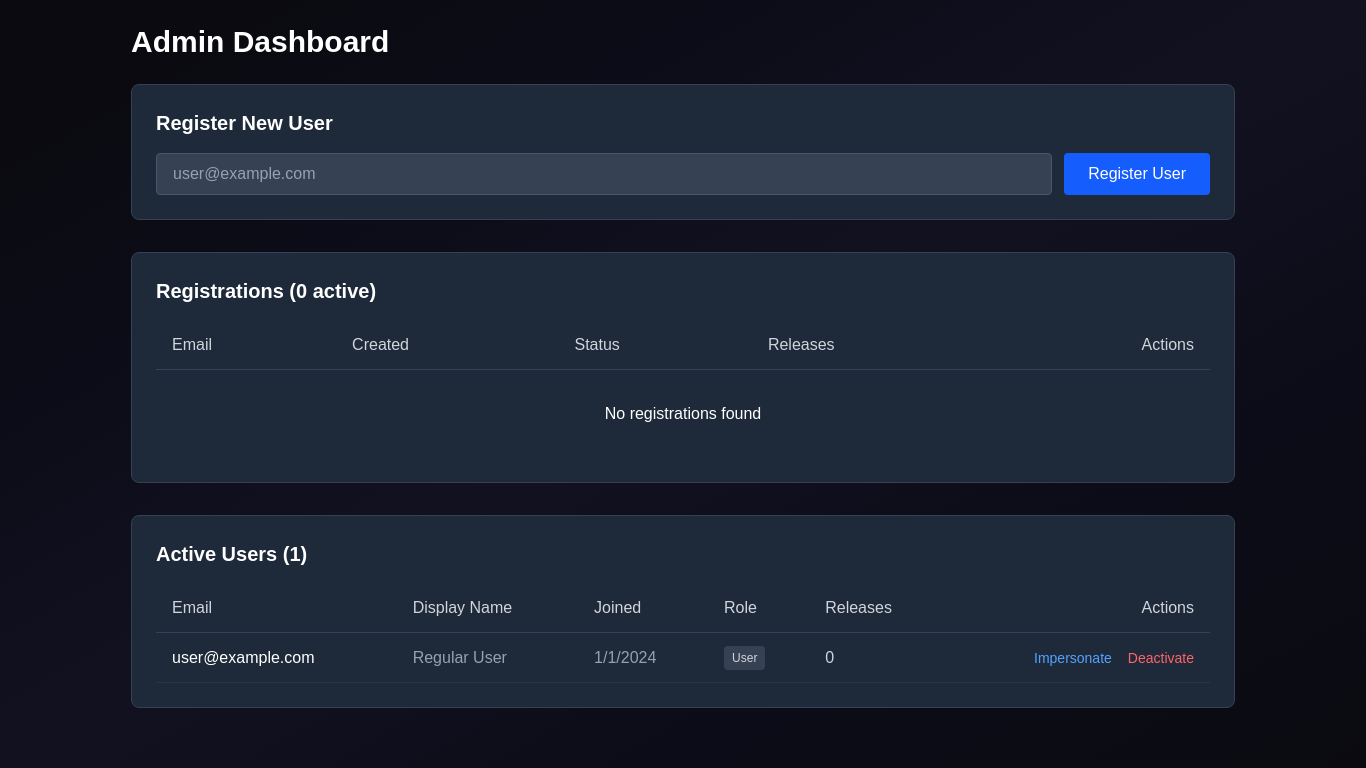
Test: AdminDashboard — impersonation › clickingImpersonate_onApiError_doesNotCallStartImpersonation
This screenshot has width=1366, height=768.
Click the button "Impersonate": (1073, 658) left=1034, top=648, right=1112, bottom=668
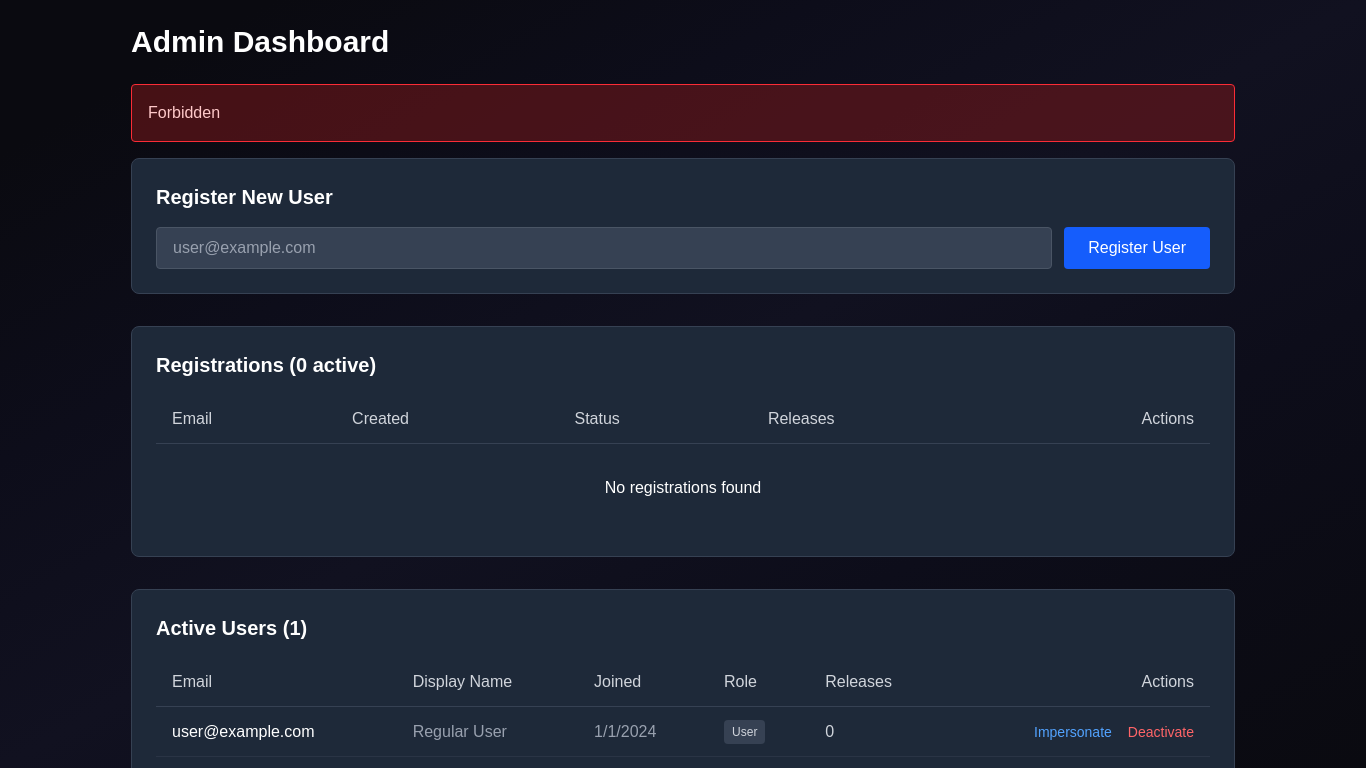
Expected: the text "Forbidden" is shown, left=131, top=84, right=1235, bottom=142
